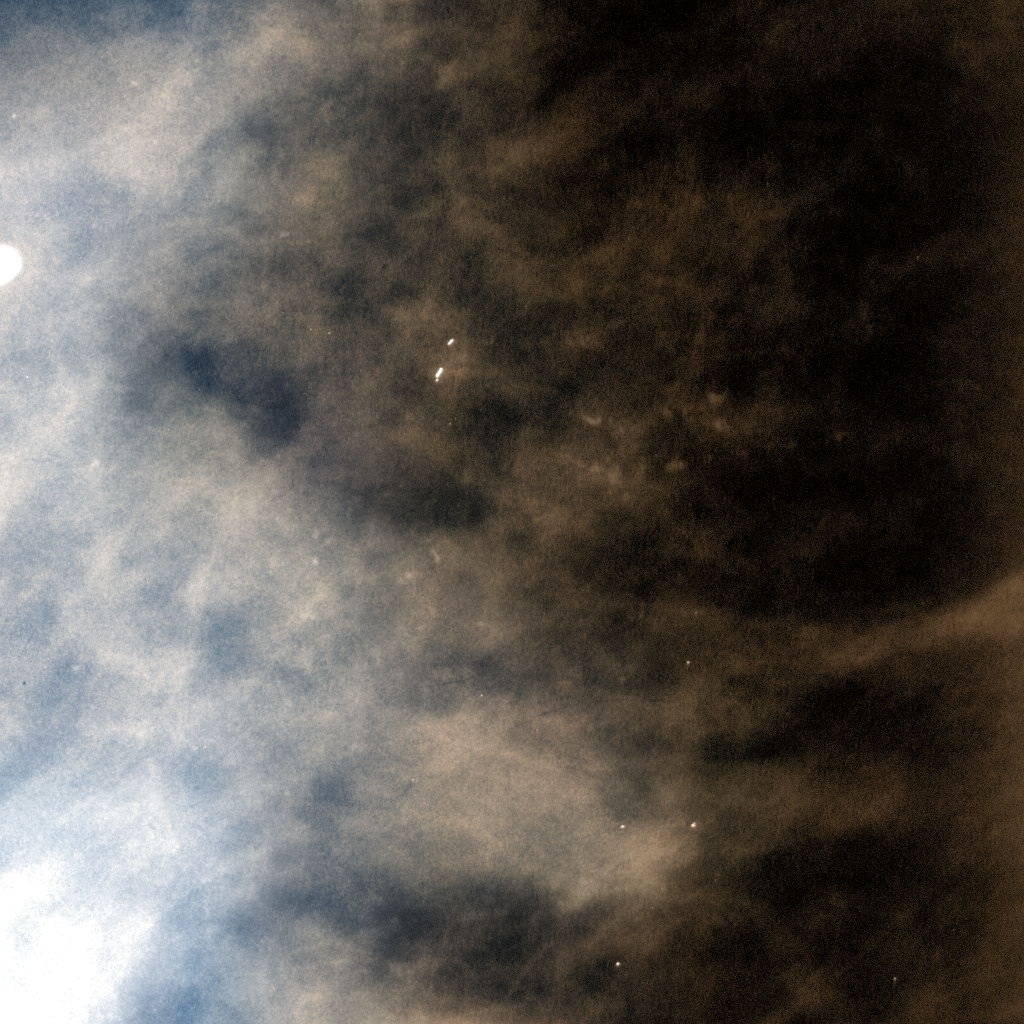tumor: (214, 334, 810, 690)
